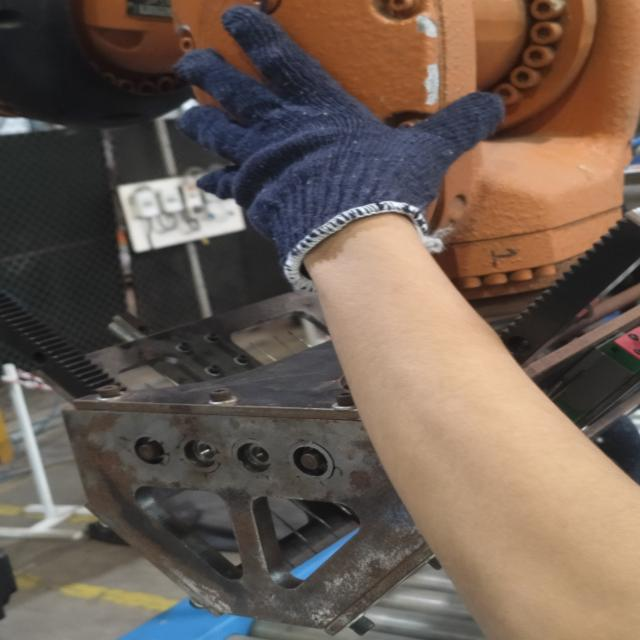Gloves-Detection: (165, 11, 494, 261)
